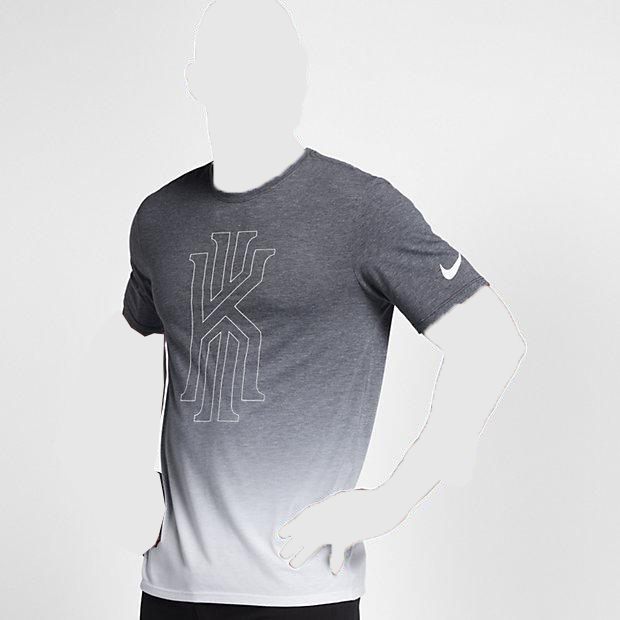teeshirt: (104, 146, 494, 611)
